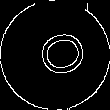O_W: (24, 27, 86, 83)
